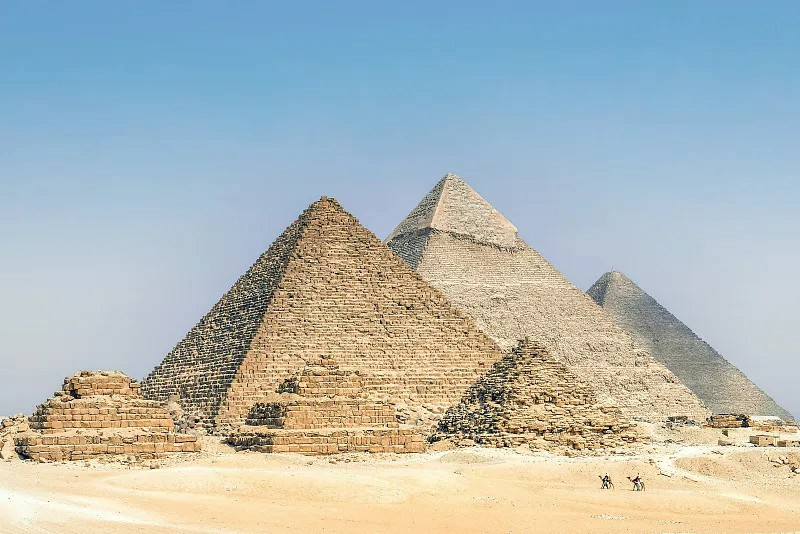Pyramid: (138, 197, 507, 431), (385, 172, 715, 424), (587, 271, 796, 424), (438, 339, 640, 444), (229, 355, 426, 452), (16, 373, 203, 457)
